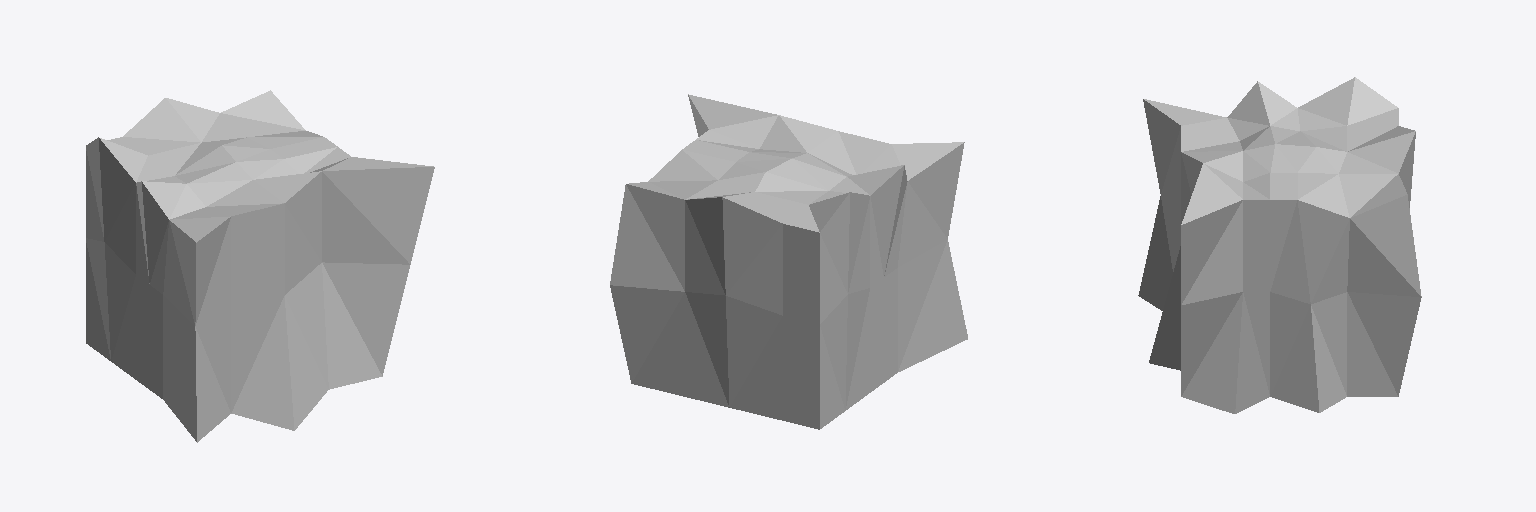
Rendered from big_box.obj.
The picture shows the model from 3 angles: view 1: azimuth 30°, elevation 25°; view 2: azimuth 150°, elevation 25°; view 3: azimuth 270°, elevation 25°; orthographic projection.
Parts seen in each view (by area): view 1: Cube_Cube.003; view 2: Cube_Cube.003; view 3: Cube_Cube.003.
Boxes of the visible parts, x1,y1,x2,y2 form: Cube_Cube.003: [86, 90, 434, 442]; Cube_Cube.003: [610, 94, 967, 429]; Cube_Cube.003: [1138, 77, 1421, 413].
Bounding box in the file's own units: 2.75 × 2.44 × 2.61.